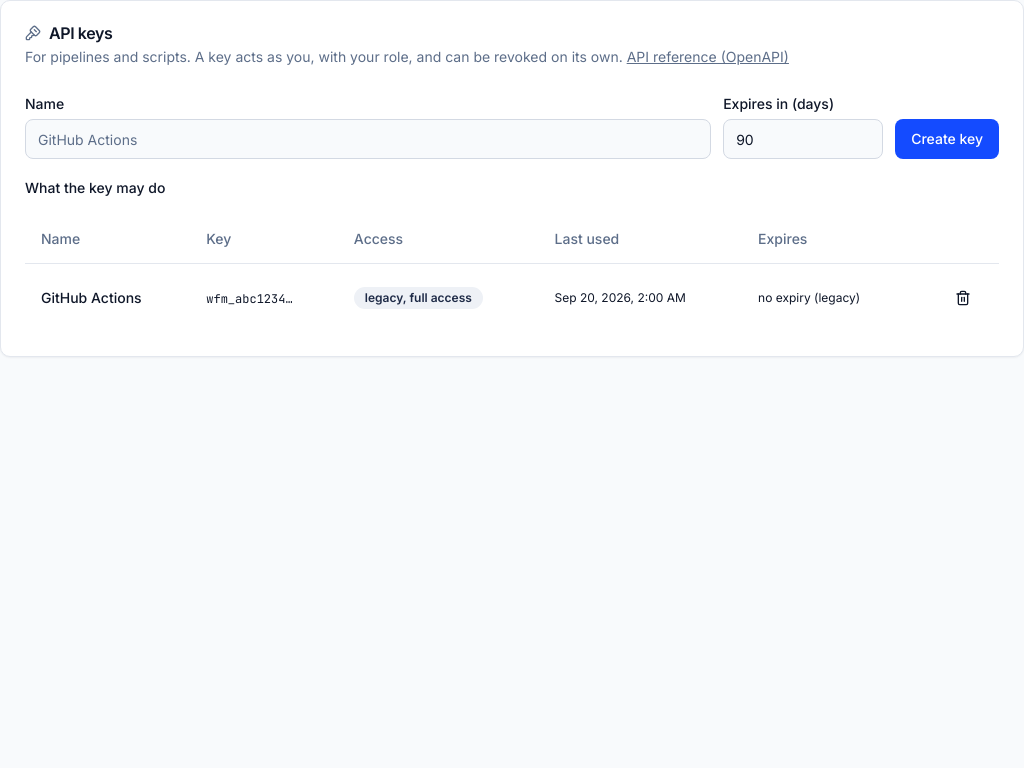
Test: ApiKeysCard › shows a new key once, with a warning that it will not be shown again
Expected: the text "GitHub Actions" is shown, [25,263,190,332]
In the field labelled "Name": x=368, y=139 [25,119,711,159], type "Nightly"
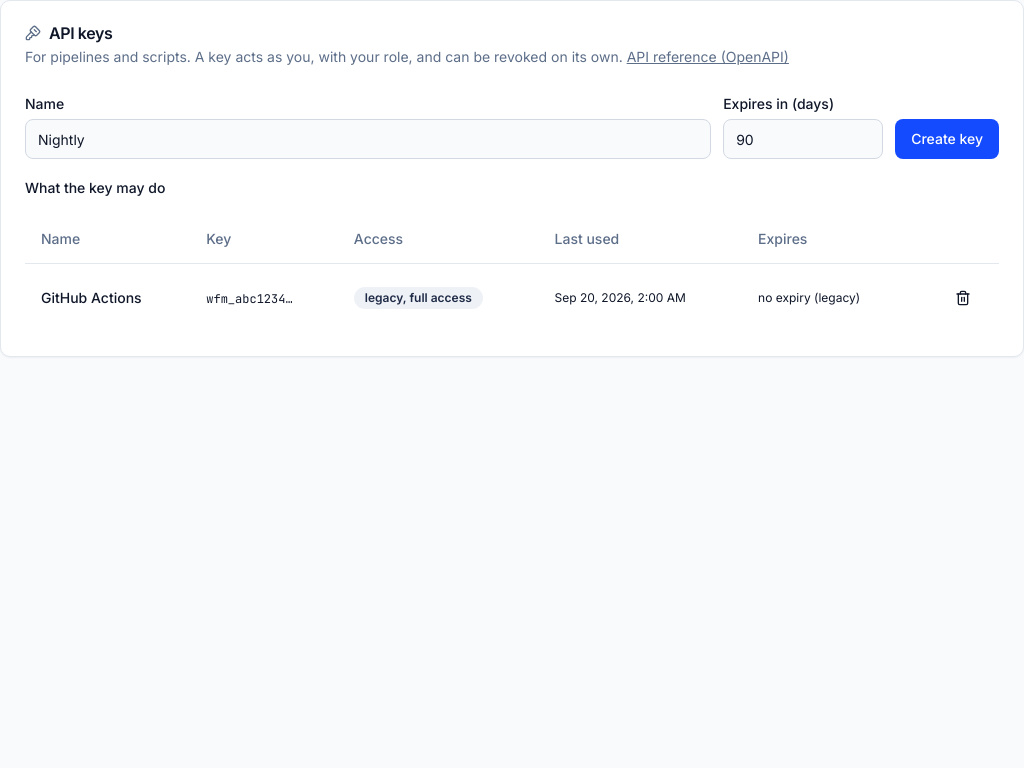
Click the button "Create key": x=947, y=139 [895,119,999,159]
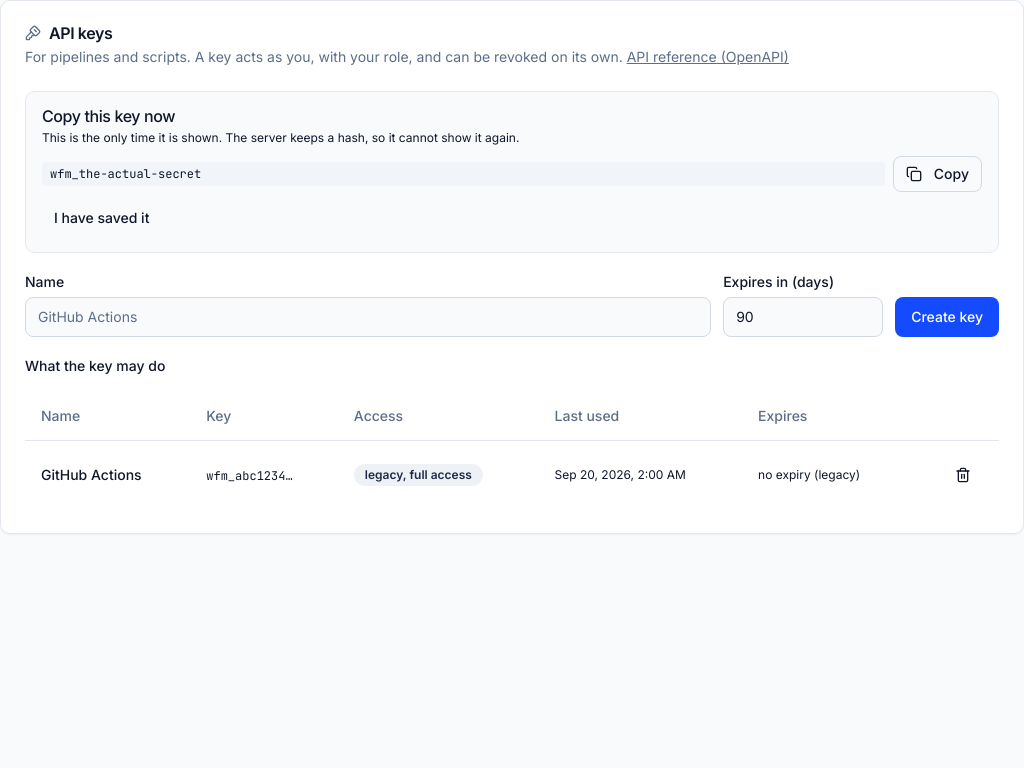
Expected: the text with test id "fresh-api-key" reads "wfm_the-actual-secret", [50,166,201,182]
Expected: the text "only time it is shown" is shown, [42,130,519,145]
